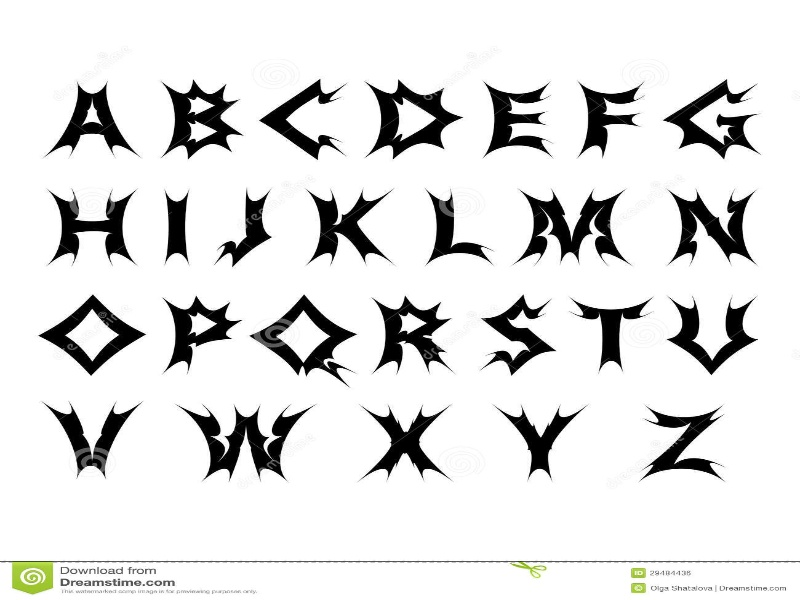letter: (626, 394, 755, 509), (169, 398, 314, 492), (656, 63, 775, 176), (247, 289, 369, 393), (512, 183, 637, 283), (251, 59, 352, 182), (359, 65, 470, 176), (33, 65, 147, 170), (29, 283, 151, 377), (652, 181, 768, 278), (32, 389, 155, 480), (352, 403, 463, 502), (33, 183, 159, 265), (487, 394, 586, 496), (660, 290, 764, 385), (481, 66, 568, 179), (357, 287, 462, 380), (293, 185, 398, 277), (156, 66, 235, 178), (572, 63, 642, 185), (474, 289, 558, 384), (569, 293, 652, 386), (413, 183, 492, 276), (162, 290, 232, 385), (215, 187, 279, 275), (159, 187, 208, 270)
